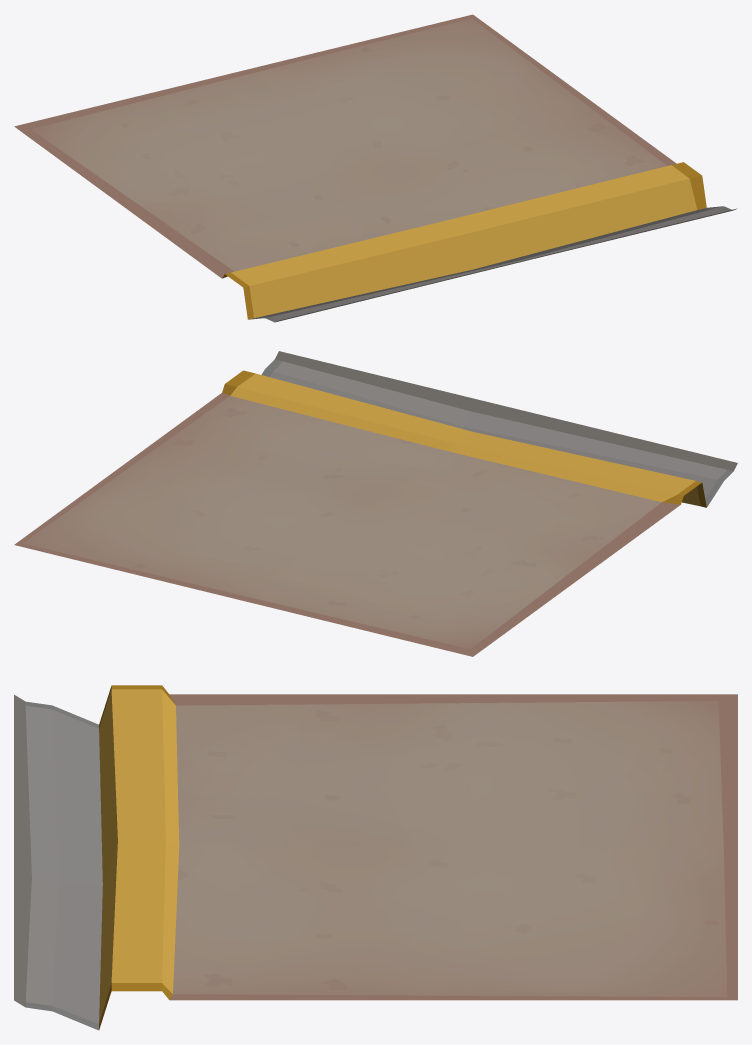
File: SM_Env_Sidewalk_Edge_01.fbx
3 views of the same model, one above another, from view 1: azimuth 30°, elevation 25°; view 2: azimuth 150°, elevation 25°; view 3: azimuth 270°, elevation 25° (orthographic). The views are drawn at different scales.
Visible parts, largest first — view 1: SM_Env_Sidewalk_Edge_01; view 2: SM_Env_Sidewalk_Edge_01; view 3: SM_Env_Sidewalk_Edge_01.
Boxes of the visible parts, left/top/right/bottom form: SM_Env_Sidewalk_Edge_01: left=14, top=14, right=737, bottom=322; SM_Env_Sidewalk_Edge_01: left=14, top=351, right=737, bottom=656; SM_Env_Sidewalk_Edge_01: left=14, top=685, right=737, bottom=1030.
Size of the model in its own units: 250 by 18.18 by 250.
